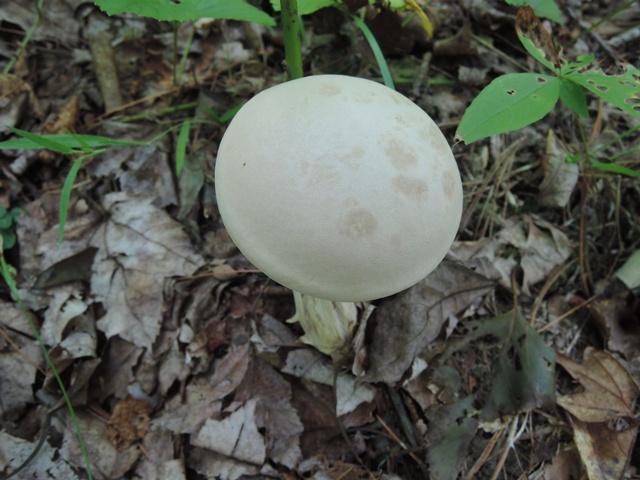Edible Mushroom: (212, 72, 464, 360)
